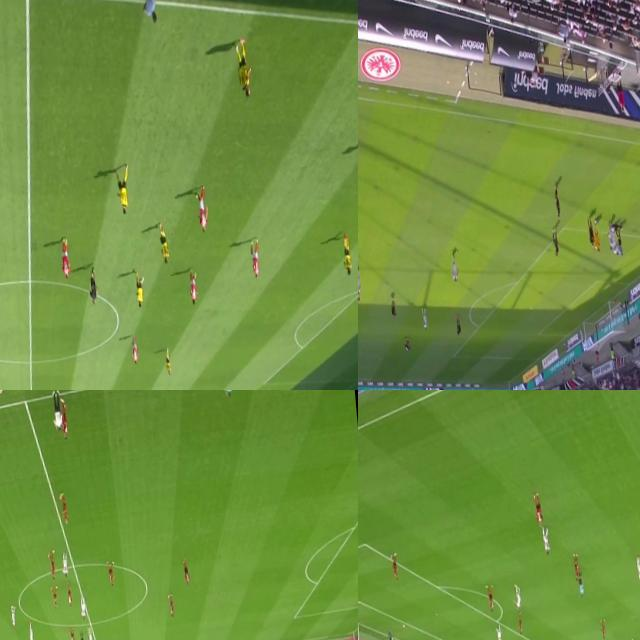ball: (399, 620, 406, 632), (592, 217, 599, 226)
player: (232, 37, 250, 102), (194, 186, 211, 237), (114, 164, 130, 217), (155, 218, 171, 268), (338, 236, 356, 279), (58, 237, 72, 282), (130, 272, 146, 310), (187, 268, 200, 309), (248, 238, 260, 279), (568, 550, 582, 584), (551, 182, 563, 220), (59, 399, 70, 439), (591, 217, 602, 256), (532, 491, 544, 526), (389, 546, 400, 584), (584, 212, 596, 246), (605, 215, 616, 252), (448, 252, 459, 288), (162, 350, 173, 382), (59, 491, 70, 523), (420, 302, 430, 336), (47, 550, 57, 580), (550, 230, 560, 258), (512, 584, 522, 612), (402, 329, 412, 356), (542, 530, 552, 556), (390, 292, 398, 321), (633, 551, 640, 584), (50, 586, 60, 609), (517, 614, 526, 639), (454, 312, 462, 340), (611, 230, 619, 258), (182, 558, 190, 586), (486, 585, 494, 613), (61, 552, 70, 576), (108, 560, 116, 587), (130, 341, 138, 367), (598, 620, 608, 640), (610, 219, 624, 233), (358, 266, 363, 303), (168, 592, 175, 618), (8, 606, 16, 628), (78, 596, 86, 618), (358, 261, 363, 296), (66, 582, 72, 608), (496, 621, 504, 640), (27, 620, 34, 640), (87, 626, 95, 640), (69, 628, 76, 640), (386, 629, 393, 640)
